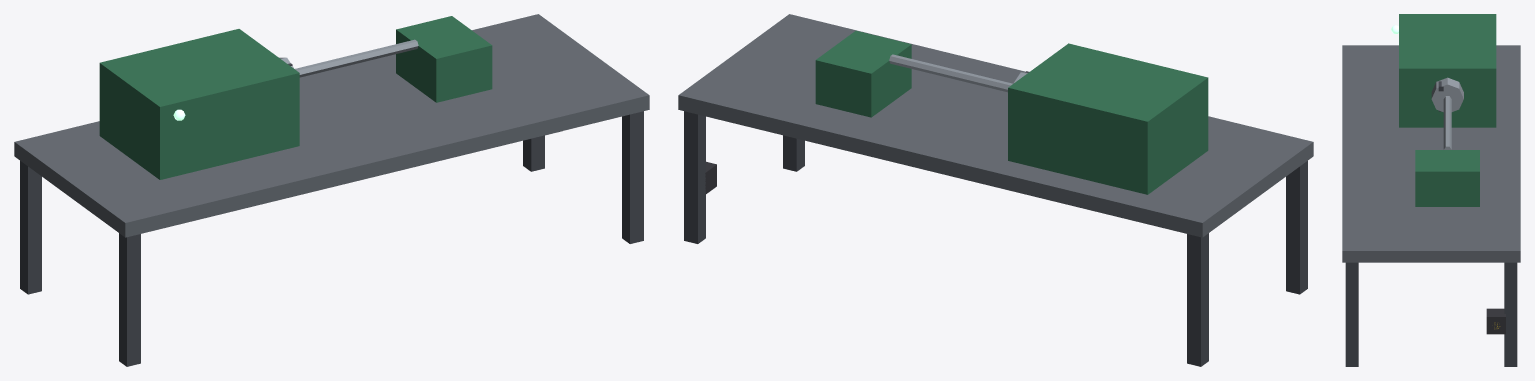
Rendered from ElectricWorkshop@Run.fbx.
3 renders of one model, left to right at view 1: azimuth 30°, elevation 25°; view 2: azimuth 150°, elevation 25°; view 3: azimuth 270°, elevation 25°, orthographic. The views are drawn at different scales.
Parts seen in each view (by area): view 1: ElectricWorkshop_Body; view 2: ElectricWorkshop_Body; view 3: ElectricWorkshop_Body, ElectricWorkshop_Chuck.
Part boxes in pixels (bbox=[...]): ElectricWorkshop_Body: bbox=[14, 14, 649, 366]; ElectricWorkshop_Body: bbox=[678, 14, 1313, 366]; ElectricWorkshop_Body: bbox=[1342, 14, 1520, 366]; ElectricWorkshop_Chuck: bbox=[1431, 77, 1463, 111].
Size of the model in its own units: 1.51 by 0.6 by 0.55.
